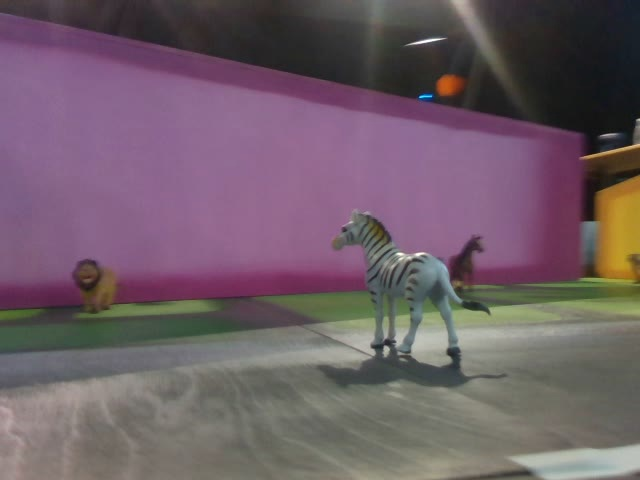toy: (331, 206, 489, 356), (71, 258, 123, 312)
